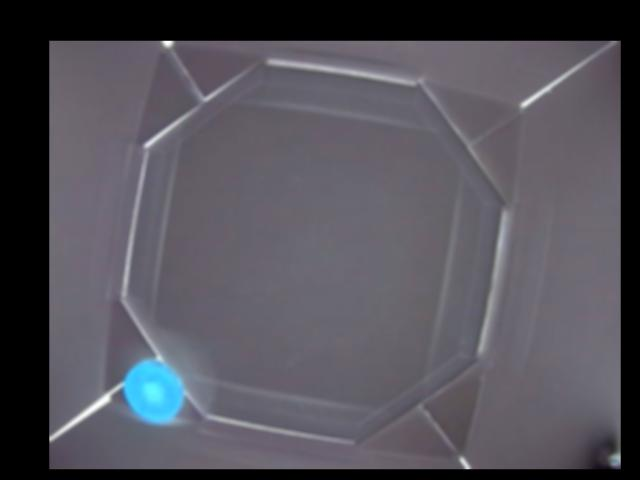Carrot: (122, 359, 184, 422)
